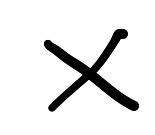mult: (44, 28, 138, 113)
